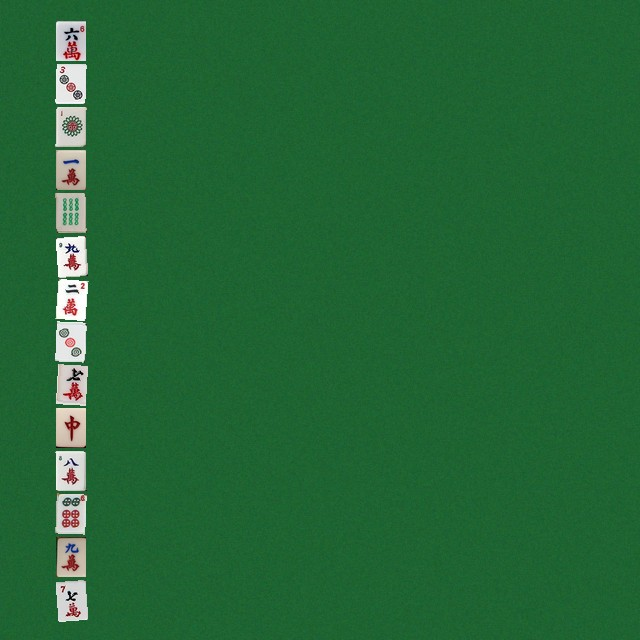tile: (55, 20, 85, 60), (55, 63, 85, 103), (55, 106, 85, 146), (55, 149, 85, 189), (55, 192, 85, 232), (55, 235, 85, 275), (55, 278, 85, 318), (55, 321, 85, 361), (55, 364, 85, 404), (55, 407, 85, 447), (55, 450, 85, 490), (55, 493, 85, 533), (55, 536, 85, 576), (55, 579, 85, 619)
